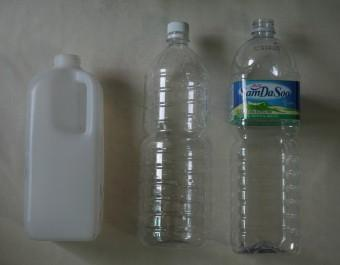bottle: (226, 16, 304, 252), (132, 18, 208, 247), (23, 54, 111, 240)
